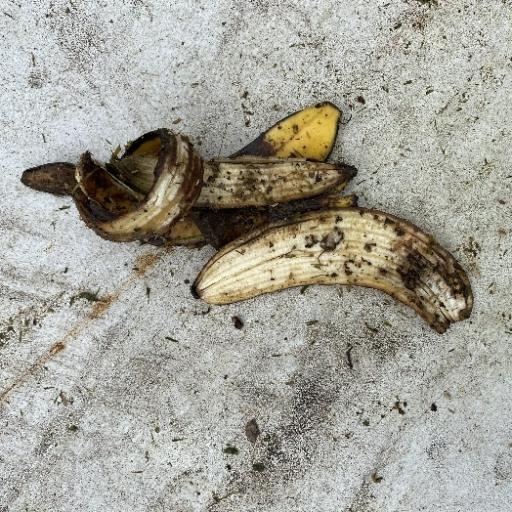Waste: (19, 100, 475, 336), (189, 205, 474, 335)
